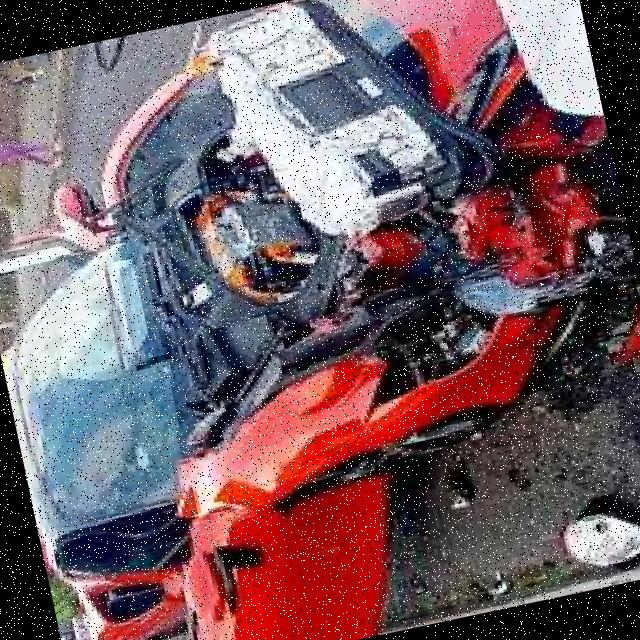Severe Damage: (24, 0, 622, 520)
